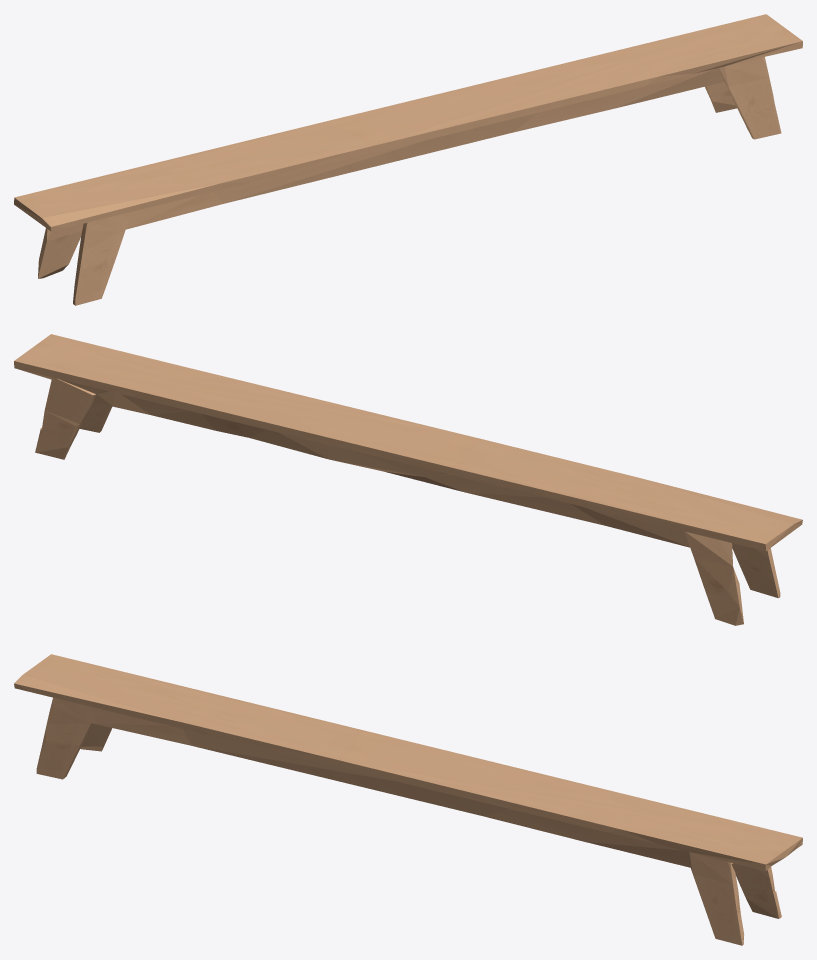
The model's file is gym_bench_pale_low.glb.
3 views of the same model, one above another, from view 1: azimuth 30°, elevation 25°; view 2: azimuth 150°, elevation 25°; view 3: azimuth 330°, elevation 25° (orthographic).
Parts seen in each view (by area): view 1: m; view 2: m; view 3: m.
Part boxes in pixels (box(x1,y1,x2,y2)): m: box(14, 14, 802, 305); m: box(14, 334, 802, 625); m: box(14, 654, 802, 945).
Bounding box in the file's own units: 2.94 × 0.33 × 0.2639.
Materials: 1 (1 with a texture image).
